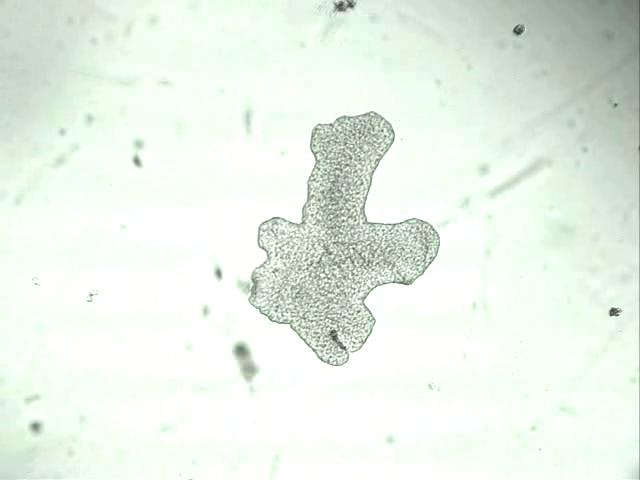Placozoan: (249, 111, 439, 365)
